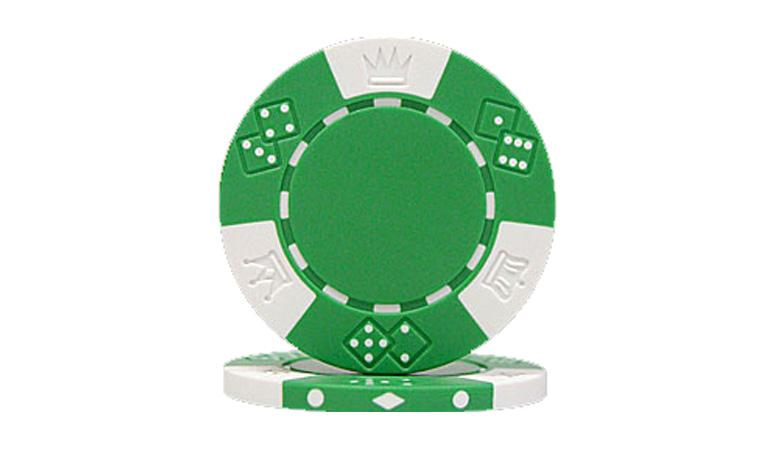chip-green: (219, 38, 556, 377), (224, 351, 545, 412)
